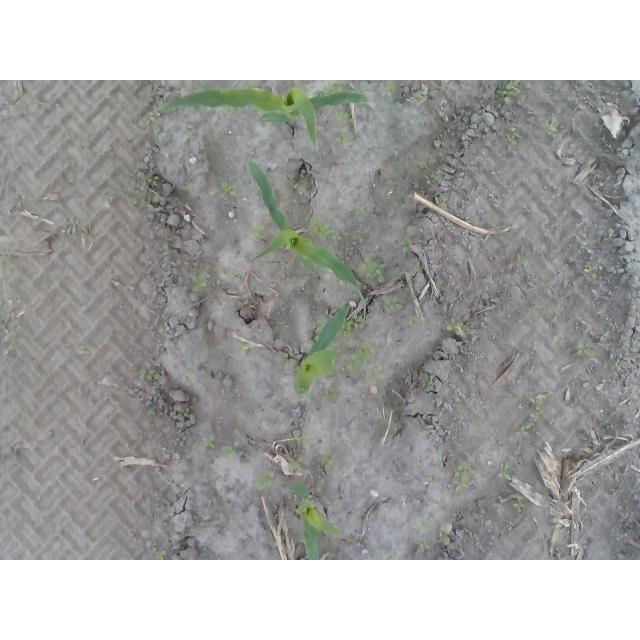Maize: (249, 160, 370, 327), (159, 86, 370, 146), (290, 304, 353, 399), (292, 480, 346, 561)
Weeds: (346, 340, 379, 381), (308, 215, 342, 242), (356, 256, 386, 285), (498, 80, 524, 106), (254, 469, 280, 491), (529, 393, 547, 423), (545, 118, 564, 146), (383, 295, 409, 314), (455, 463, 474, 489), (341, 319, 364, 338), (191, 269, 209, 293), (247, 221, 269, 240), (584, 258, 608, 274), (575, 340, 594, 359), (447, 316, 465, 336), (288, 454, 304, 475), (137, 367, 161, 381), (320, 82, 345, 95), (412, 89, 429, 107), (335, 110, 354, 126), (334, 131, 355, 145), (319, 454, 336, 470), (221, 183, 239, 198), (497, 463, 511, 482), (281, 352, 296, 368), (435, 195, 450, 210), (161, 238, 172, 258), (238, 340, 256, 352), (513, 499, 527, 514), (352, 201, 367, 215), (400, 238, 412, 255), (385, 81, 396, 98), (202, 436, 215, 450), (324, 388, 338, 401), (546, 159, 558, 174), (438, 530, 451, 543), (581, 239, 595, 250), (425, 173, 440, 183), (511, 127, 519, 145), (147, 110, 162, 119), (409, 314, 418, 329), (224, 447, 236, 458), (185, 366, 196, 378), (614, 358, 626, 369), (418, 541, 430, 552), (381, 186, 392, 198), (314, 319, 325, 330), (517, 255, 529, 265), (513, 430, 528, 438), (426, 478, 439, 486), (181, 407, 191, 417), (386, 553, 399, 560), (158, 552, 168, 561), (416, 264, 423, 272), (152, 175, 161, 181)
